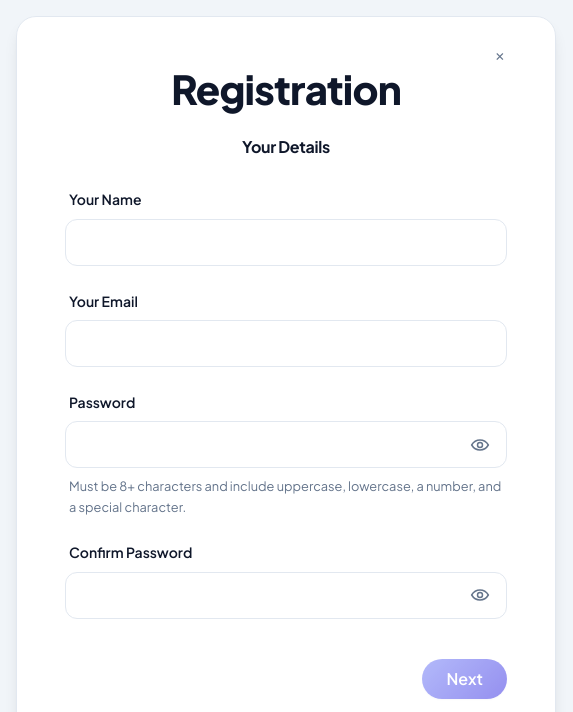
Test: RegisterOwnerPage › advances to step 2 once step 1 is valid
Type "Jane" into the field labelled "Your Name".
click(286, 242); type("Jane")  # box [66,220,506,265]
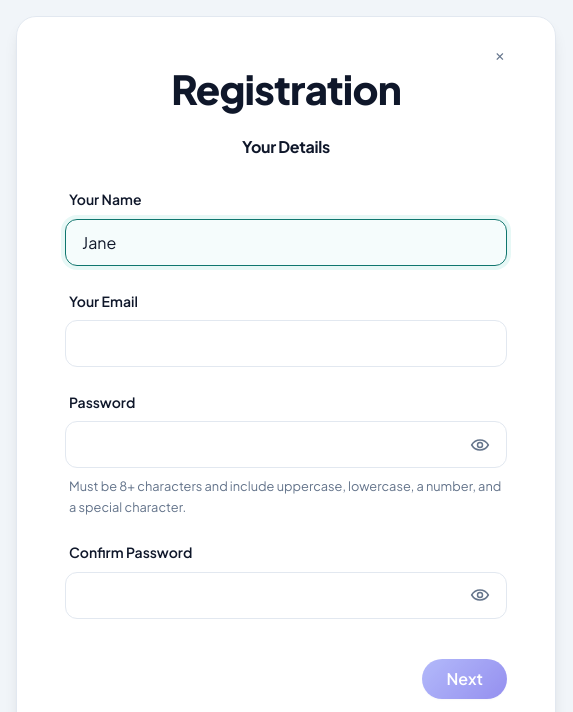
Type "jane@example.com" into the field labelled "Your Email".
click(286, 344); type("jane@example.com")  # box [66,321,506,366]
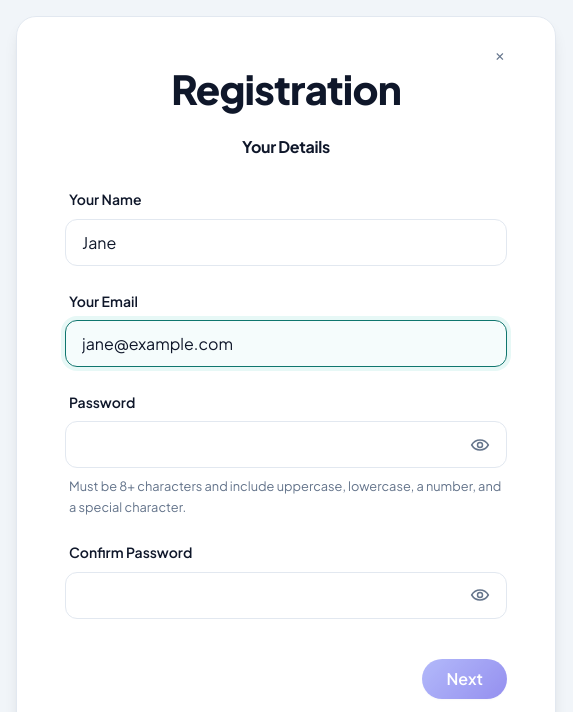
Type "StrongPass1!" into the password field labelled "Password".
click(286, 445); type("StrongPass1!")  # box [66,422,506,467]
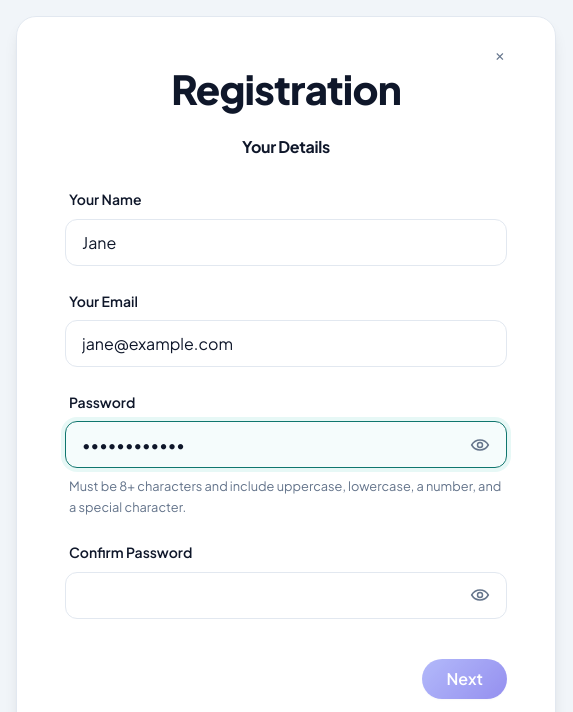
Type "StrongPass1!" into the password field labelled "Confirm Password".
click(286, 595); type("StrongPass1!")  # box [66,573,506,618]
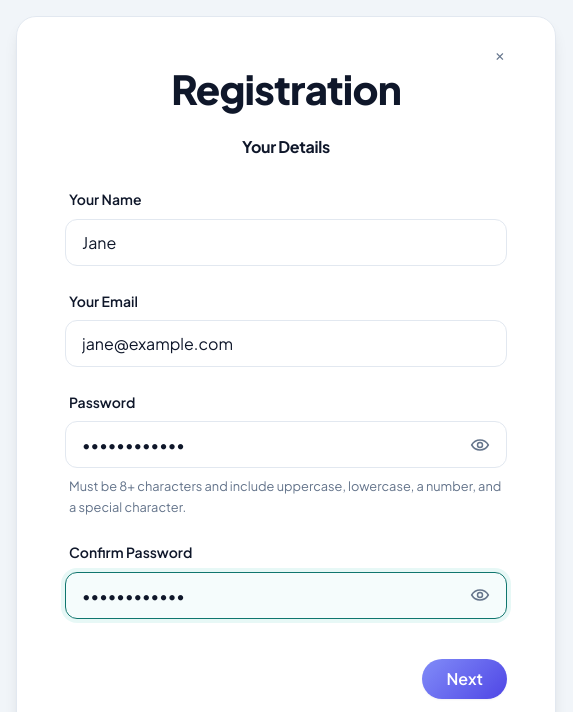
Click the button "Next".
click(465, 679)  # box [422,659,507,699]
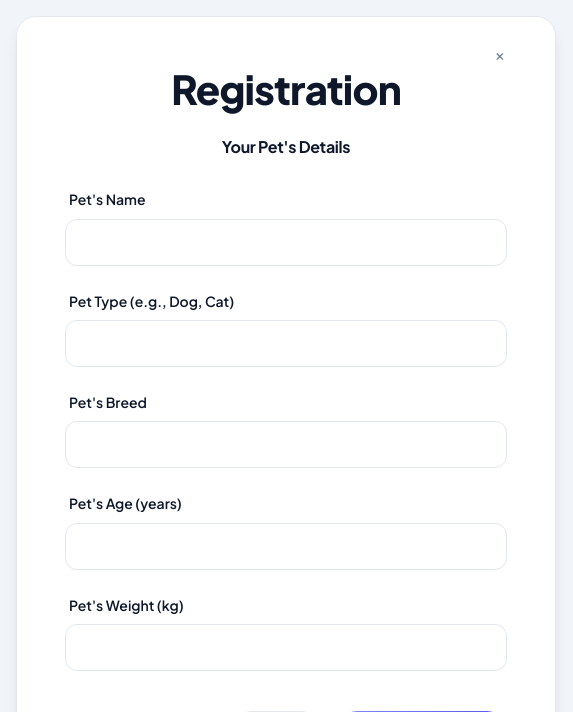
Expected: the heading "Your Pet's Details" is shown, [222,136,350,157]
